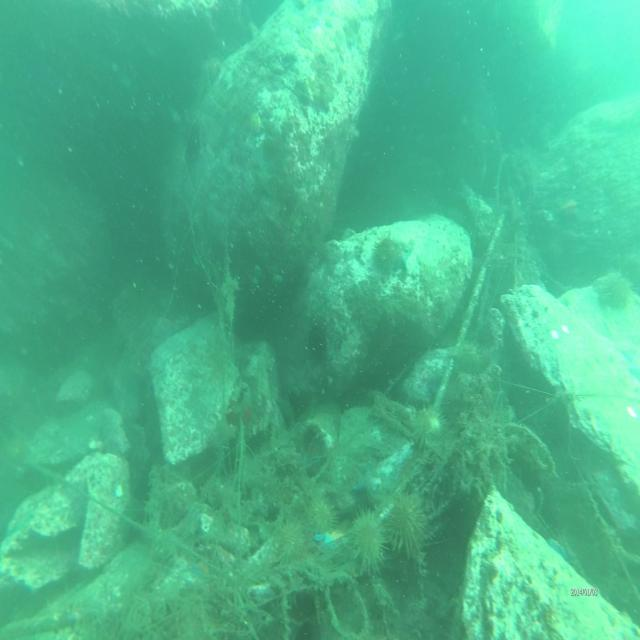echinus: (384, 492, 424, 563), (349, 513, 384, 574), (598, 266, 630, 315), (416, 404, 447, 449), (372, 234, 402, 274), (276, 521, 304, 563), (305, 321, 331, 366), (304, 495, 334, 526)
starfish: (548, 532, 568, 564), (189, 558, 214, 583), (561, 196, 580, 222), (320, 532, 344, 552)
